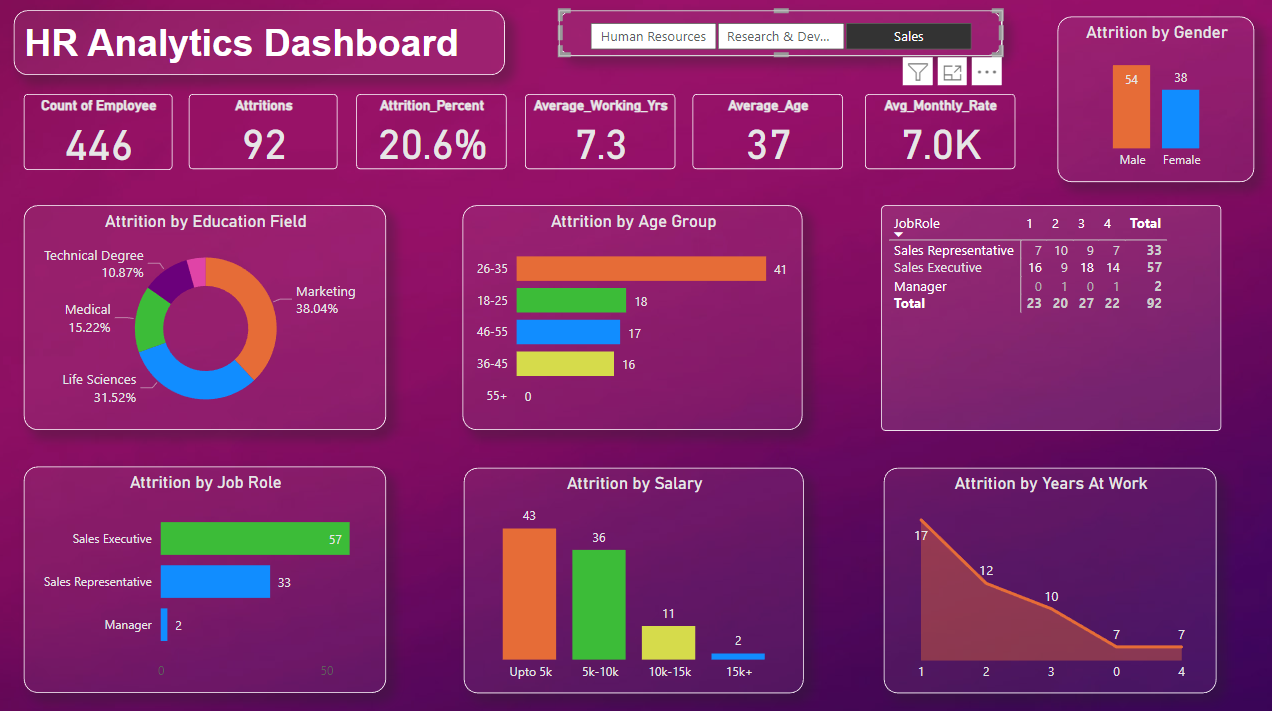

What the dashboard file says about the page in this screenshot:
{"tool":"powerbi","page":{"name":"Page 1","canvas":[1280,720],"ordinal":0},"visuals":[{"type":"card","title":"Average_Working_Yrs","fields":{"Values":["Avg(HR_Analytics_data.YearsAtCompany)"]},"box":[530,95.3,150,75],"z":0},{"type":"card","title":"Count of Employee","fields":{"Values":["CountNonNull(HR_Analytics_data.EmpID)"]},"box":[28.7,95.3,148.8,76.2],"z":1000},{"type":"card","title":"Attrition_Percent","fields":{"Values":["HR_Analytics_data.AttritionRate"]},"box":[361.2,95.3,150,75],"z":2000},{"type":"card","title":"Attritions","fields":{"Values":["Sum(HR_Analytics_data.Attrition_count)"]},"box":[193.7,95.3,148.8,75],"z":3000},{"type":"card","title":"Average_Age","fields":{"Values":["Avg(HR_Analytics_data.Age)"]},"box":[697.5,95.3,150,75],"z":4000},{"type":"card","title":"Avg_Monthly_Rate","fields":{"Values":["Avg(HR_Analytics_data.MonthlyIncome)"]},"box":[870,95.3,150,75],"z":5000},{"type":"donutChart","title":"Attrition by Education Field","fields":{"Category":["HR_Analytics_data.EducationField"],"Y":["Sum(HR_Analytics_data.Attrition_count)"]},"box":[35.7,205.7,355.7,225.7],"z":6000},{"type":"clusteredBarChart","title":"Attrition by Age Group ","fields":{"Category":["HR_Analytics_data.AgeGroup"],"Y":["Sum(HR_Analytics_data.Attrition_count)"]},"box":[471.4,205.7,337.1,225.7],"z":7000},{"type":"pivotTable","fields":{"Rows":["HR_Analytics_data.JobRole"],"Columns":["HR_Analytics_data.JobSatisfaction"],"Values":["Sum(HR_Analytics_data.Attrition_count)"]},"box":[885.7,205.7,340,225.7],"z":8000},{"type":"columnChart","title":"Attrition by Gender","fields":{"Y":["Sum(HR_Analytics_data.Attrition_count)"],"Category":["HR_Analytics_data.Gender"]},"box":[1062.9,17.1,197.1,165.7],"z":9000},{"type":"columnChart","title":"Attrition by Salary ","fields":{"Y":["Sum(HR_Analytics_data.Attrition_count)"],"Category":["HR_Analytics_data.SalarySlab"]},"box":[468.6,468.6,340,225.7],"z":10000},{"type":"clusteredBarChart","title":"Attrition by Job Role","fields":{"Category":["HR_Analytics_data.JobRole"],"Y":["Sum(HR_Analytics_data.Attrition_count)"]},"box":[18.6,468.6,372.9,225.7],"z":11000},{"type":"areaChart","title":"Attrition by Years At Work ","fields":{"Category":["HR_Analytics_data.YearsAtCompany"],"Y":["Sum(HR_Analytics_data.Attrition_count)"]},"box":[888.6,468.6,332.9,225.7],"z":12000},{"type":"slicer","fields":{"Values":["HR_Analytics_data.Department"]},"box":[564.3,11.4,442.9,45.7],"z":13000},{"type":"textbox","box":[18.6,11.4,442.9,64.3],"z":14000}]}

Visuals, with their boxes in screenshot pixels (x1, y1, x2, y2), scaled from the page's 1280x720 canvas onto the 1272x711 screenshot:
"Average_Working_Yrs" card: x1=527, y1=94, x2=676, y2=168
"Count of Employee" card: x1=29, y1=94, x2=176, y2=169
"Attrition_Percent" card: x1=359, y1=94, x2=508, y2=168
"Attritions" card: x1=192, y1=94, x2=340, y2=168
"Average_Age" card: x1=693, y1=94, x2=842, y2=168
"Avg_Monthly_Rate" card: x1=865, y1=94, x2=1014, y2=168
"Attrition by Education Field" donutChart: x1=35, y1=203, x2=389, y2=426
"Attrition by Age Group " clusteredBarChart: x1=468, y1=203, x2=803, y2=426
pivotTable - HR_Analytics_data.JobRole x HR_Analytics_data.JobSatisfaction: x1=880, y1=203, x2=1218, y2=426
"Attrition by Gender" columnChart: x1=1056, y1=17, x2=1252, y2=181
"Attrition by Salary " columnChart: x1=466, y1=463, x2=804, y2=686
"Attrition by Job Role" clusteredBarChart: x1=18, y1=463, x2=389, y2=686
"Attrition by Years At Work " areaChart: x1=883, y1=463, x2=1214, y2=686
slicer - HR_Analytics_data.Department: x1=561, y1=11, x2=1001, y2=56
textbox: x1=18, y1=11, x2=459, y2=75
